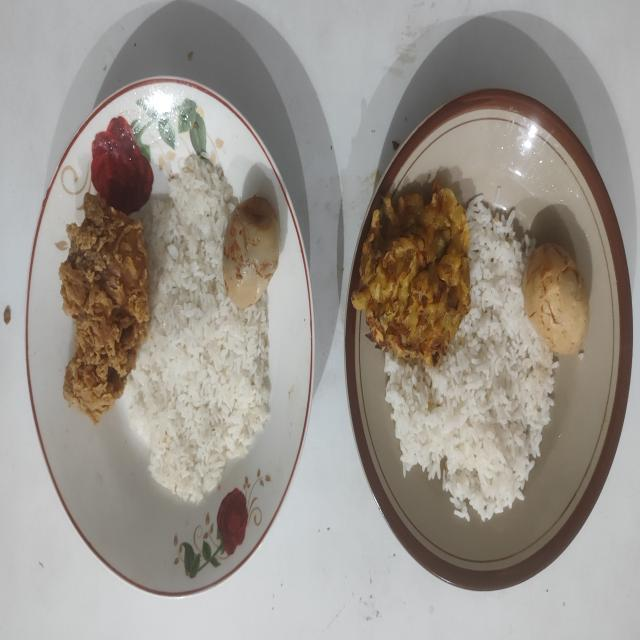nasi_putih: (384, 198, 558, 520), (126, 156, 270, 502)
